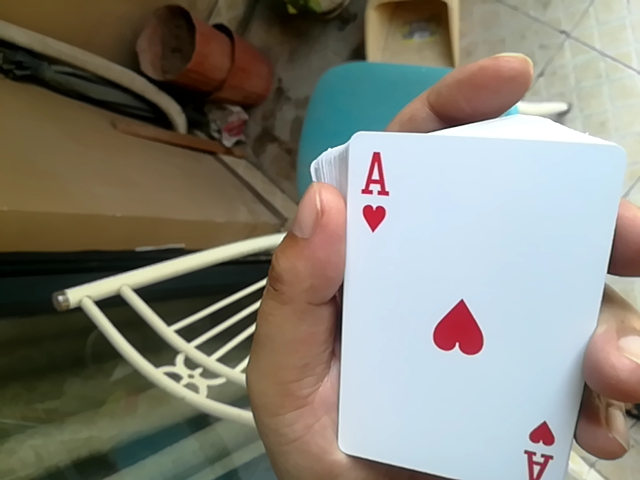hx a: (326, 130, 623, 480)
